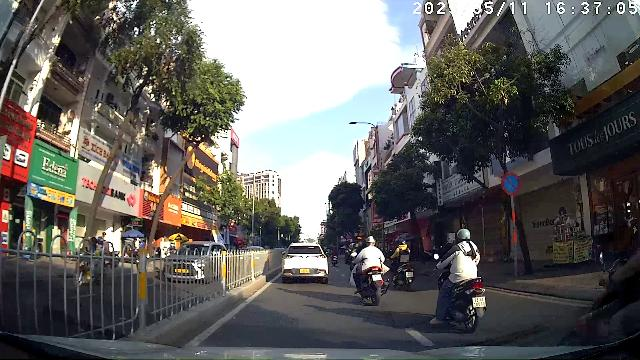131a-cam-do-xe: (501, 172, 521, 196)
